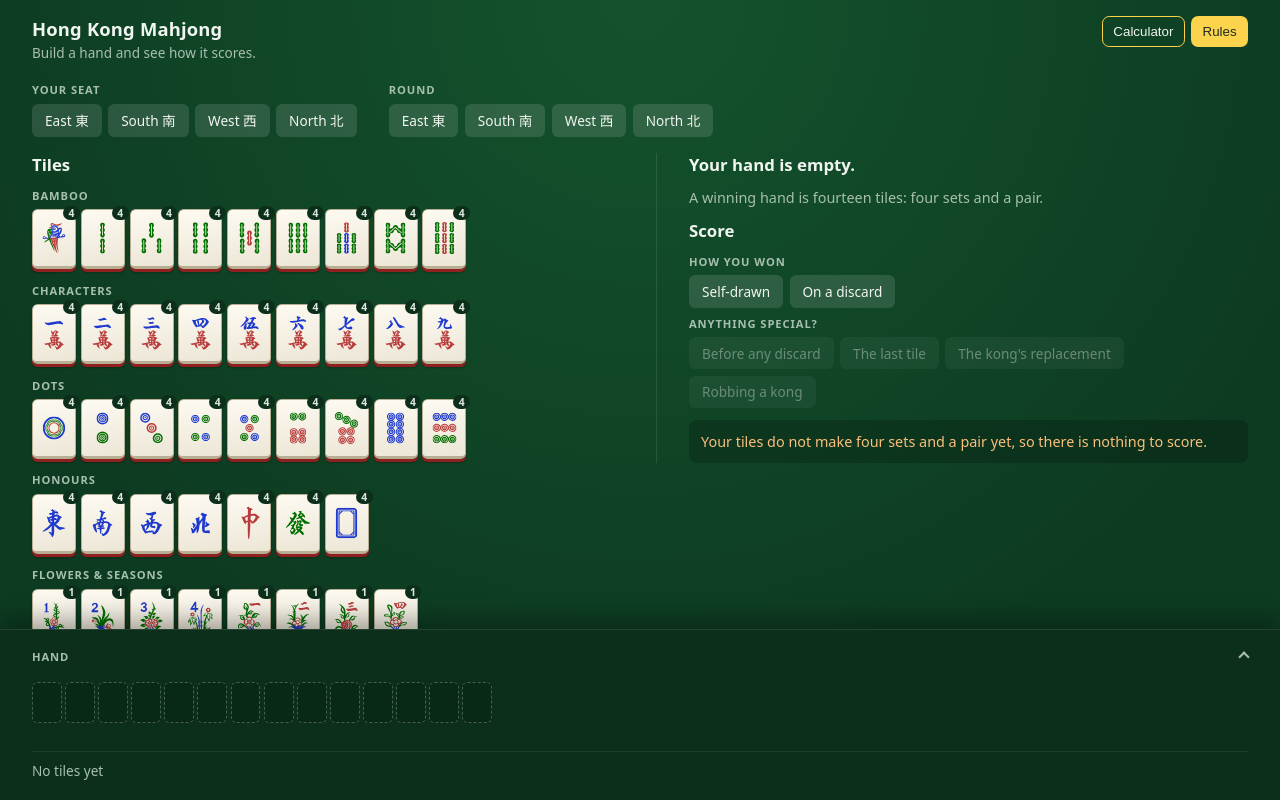
Test: explaining and scoring a hand › describes the hand as it is built
expect the text "Your hand is empty." is shown: met, box left=689, top=153, right=855, bottom=176
Click the 1st button "4" at (54, 239), box left=32, top=209, right=76, bottom=269
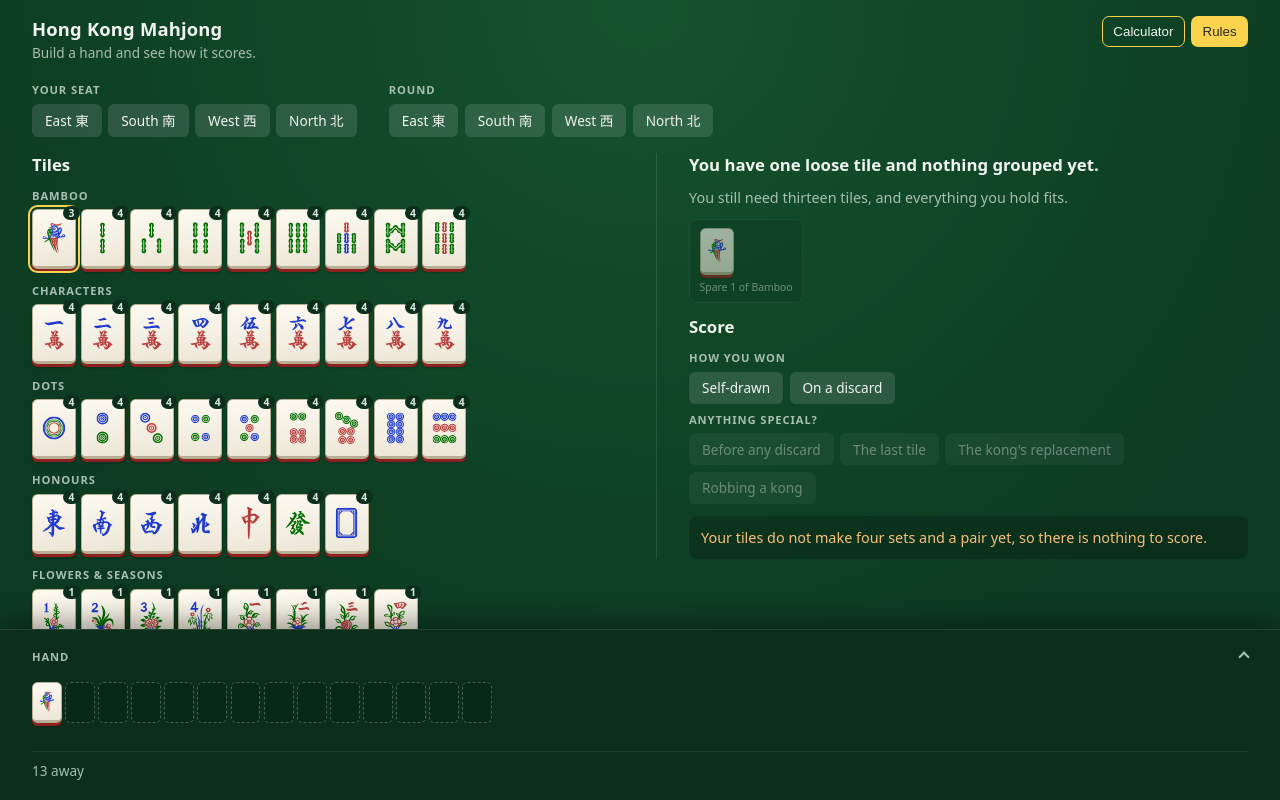
Click the 1st button "4" at (103, 239), box left=81, top=209, right=125, bottom=269
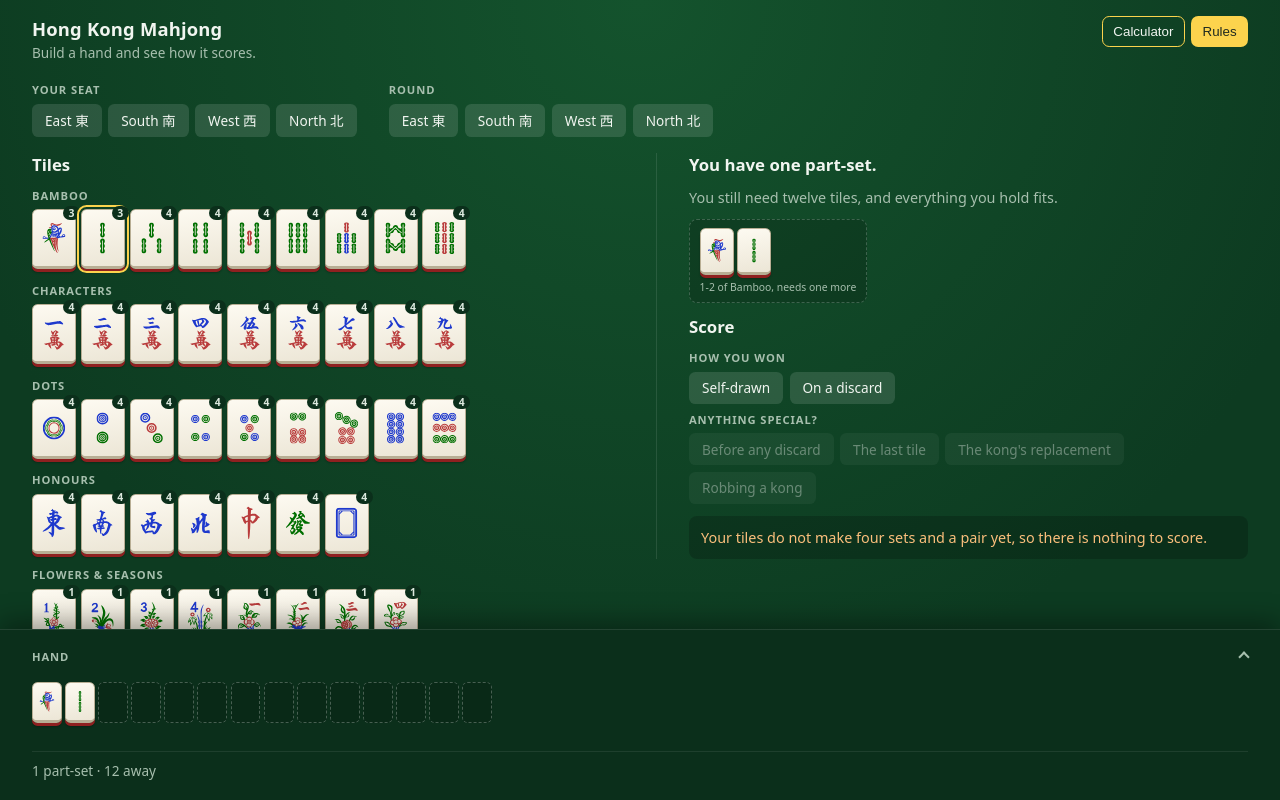
Click the 1st button "4" at (152, 239), box left=130, top=209, right=174, bottom=269
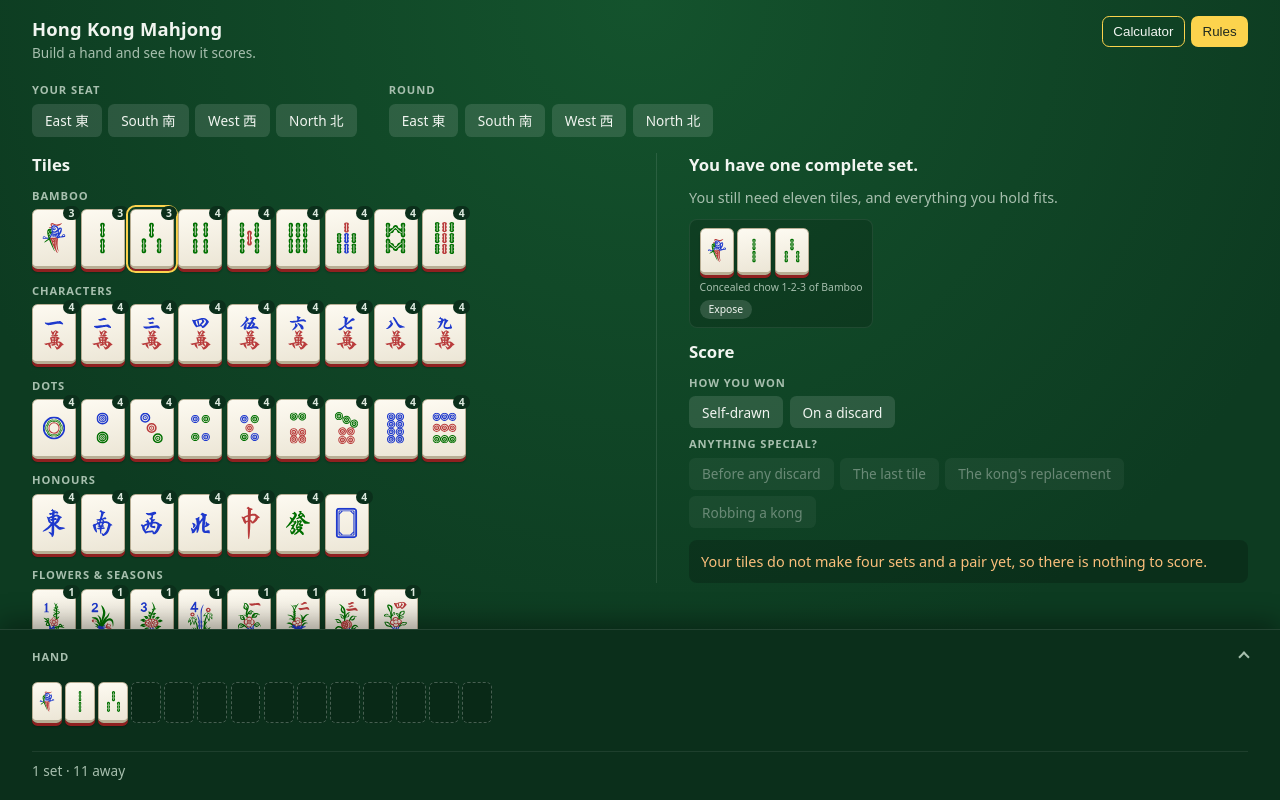
expect the text "You have one complete set." is shown: met, box left=689, top=153, right=918, bottom=176
expect the text "You still need eleven tiles, and everything you hold fits." is shown: met, box left=689, top=188, right=1058, bottom=207
